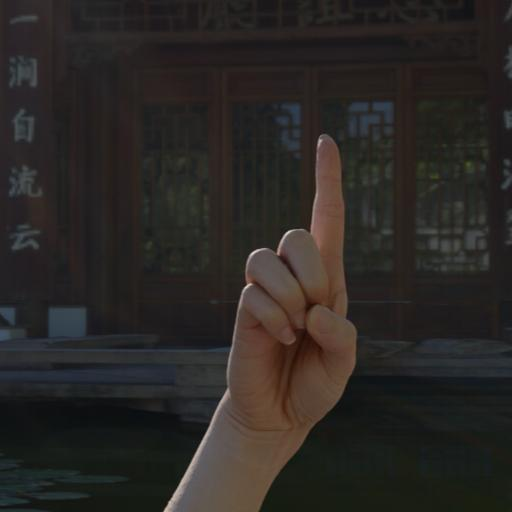D: (222, 132, 360, 432)
